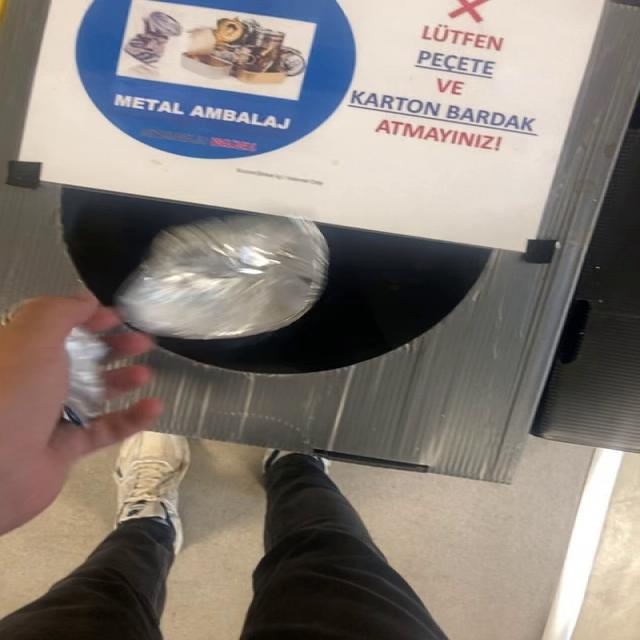metal: (116, 215, 329, 340)
